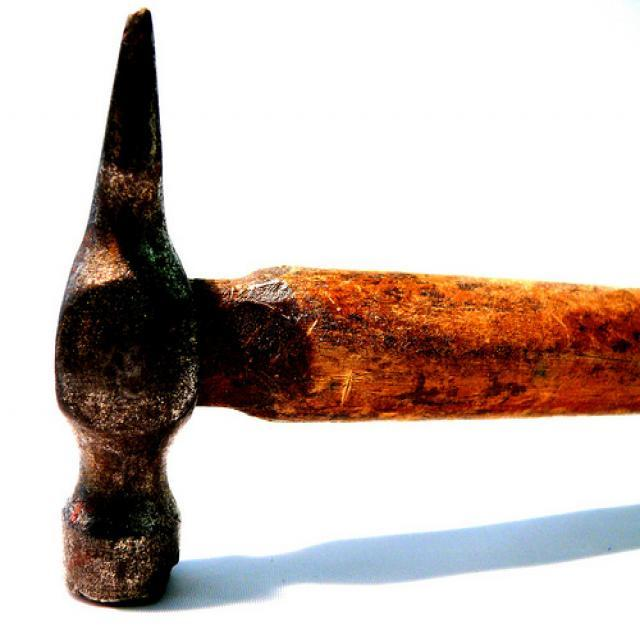hammer: (49, 4, 640, 612)
